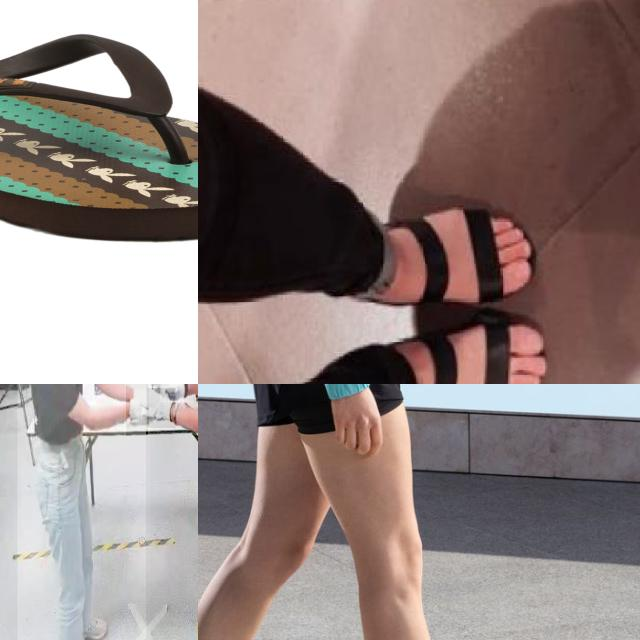Sandals: (0, 31, 198, 243), (329, 202, 539, 308), (372, 322, 548, 384)
hand_glove: (125, 384, 148, 435), (147, 388, 175, 428), (160, 384, 189, 402)
person: (17, 384, 146, 640), (150, 384, 198, 640)
shoes: (68, 611, 110, 640)
